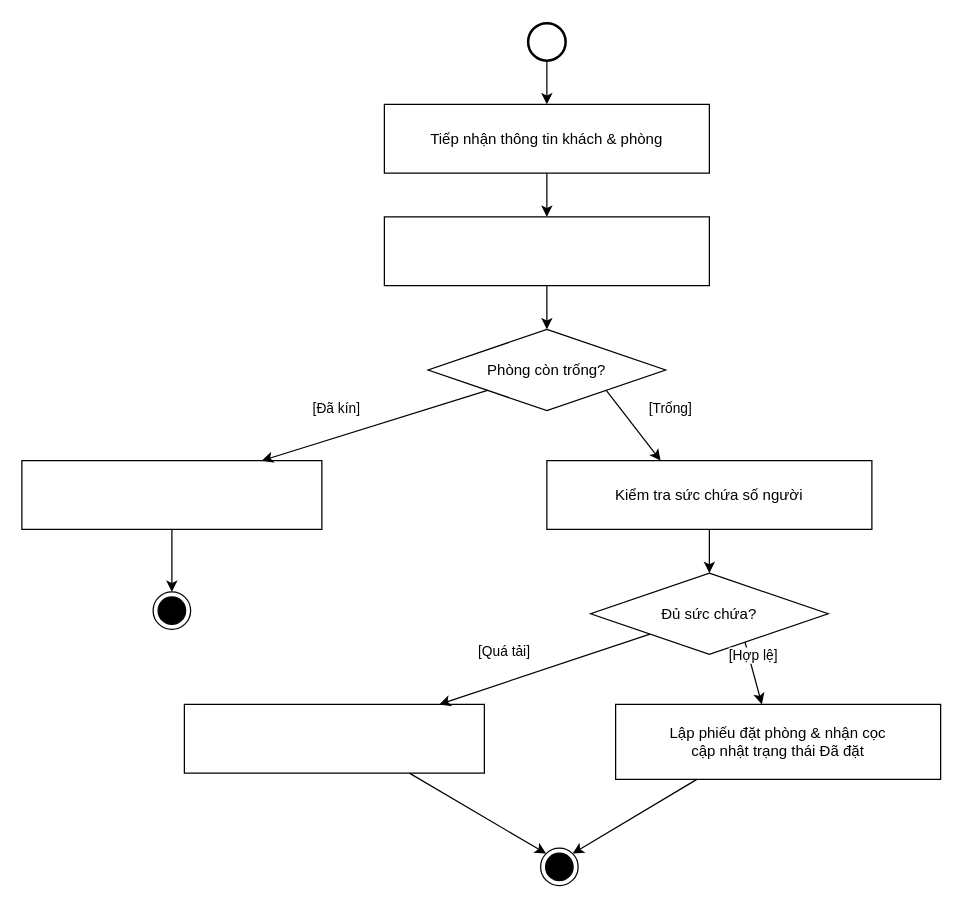
The diagram is 963 pixels wide and 908 high, and some of its shapes have lost their labels. The box of each missing label's shape, as (x1, y1, x2, y2) in pixels:
Kiểm tra lịch đặt chồng lấn: (383, 216, 709, 286)
Thông báo phòng đã kín lịch: (21, 459, 322, 529)
Từ chối vượt quá sức chứa: (183, 703, 484, 773)
